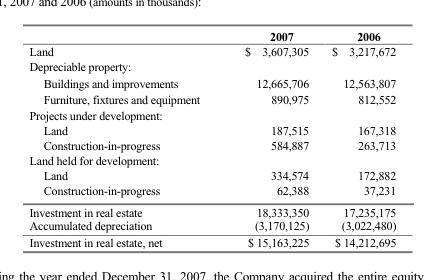table: (28, 29, 395, 249)
table column: (28, 29, 221, 249), (221, 29, 319, 249), (319, 29, 395, 249)
table column header: (28, 29, 395, 43)
table projected row header: (28, 152, 395, 168), (28, 59, 395, 74), (28, 107, 395, 122)
table row: (28, 183, 395, 201), (28, 90, 395, 107), (28, 201, 395, 218), (28, 43, 395, 59), (28, 74, 395, 90), (28, 152, 395, 168), (28, 218, 395, 234), (28, 59, 395, 74), (28, 107, 395, 122), (28, 122, 395, 137), (28, 137, 395, 152), (28, 168, 395, 183), (28, 234, 395, 249), (28, 29, 395, 43)
